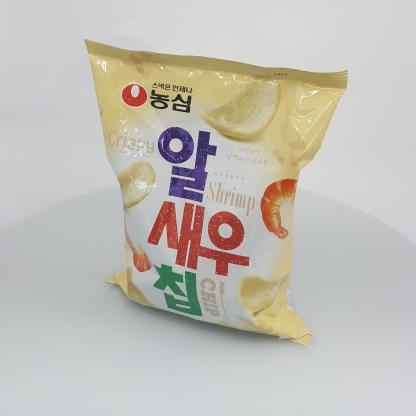Plastic Packaging: (78, 28, 354, 356)
